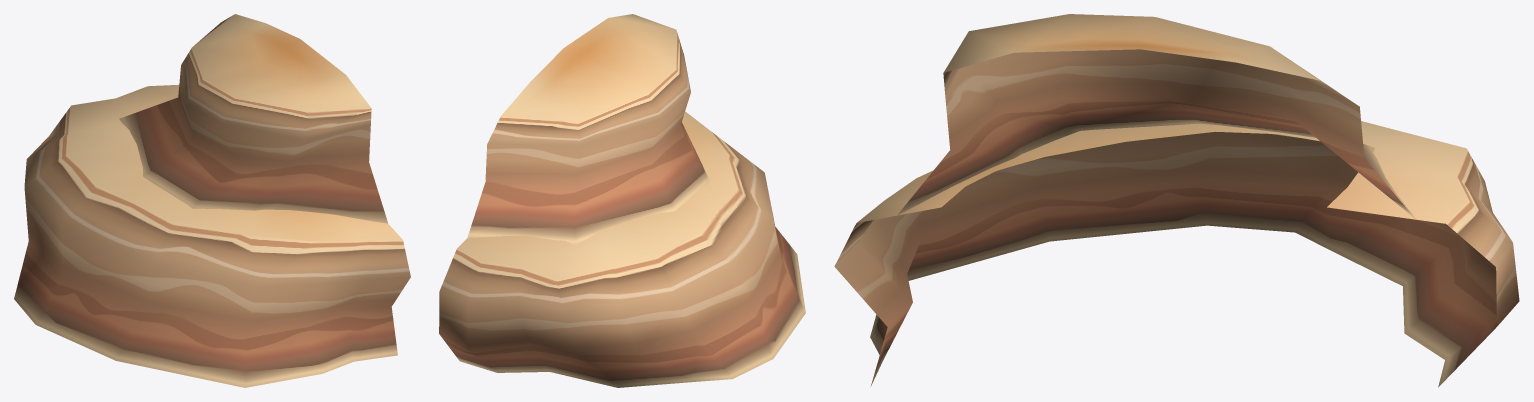
The model's file is Mount_Big_06.FBX.
3 renders of one model, left to right at view 1: azimuth 30°, elevation 25°; view 2: azimuth 150°, elevation 25°; view 3: azimuth 270°, elevation 25°, orthographic. The views are drawn at different scales.
Parts seen in each view (by area): view 1: Mount_Big_06; view 2: Mount_Big_06; view 3: Mount_Big_06.
Boxes of the visible parts, bbox=[...] form: Mount_Big_06: bbox=[14, 14, 410, 387]; Mount_Big_06: bbox=[439, 14, 805, 387]; Mount_Big_06: bbox=[834, 14, 1519, 387].
Bounding box in the file's own units: 10.62 × 10.33 × 18.94.
